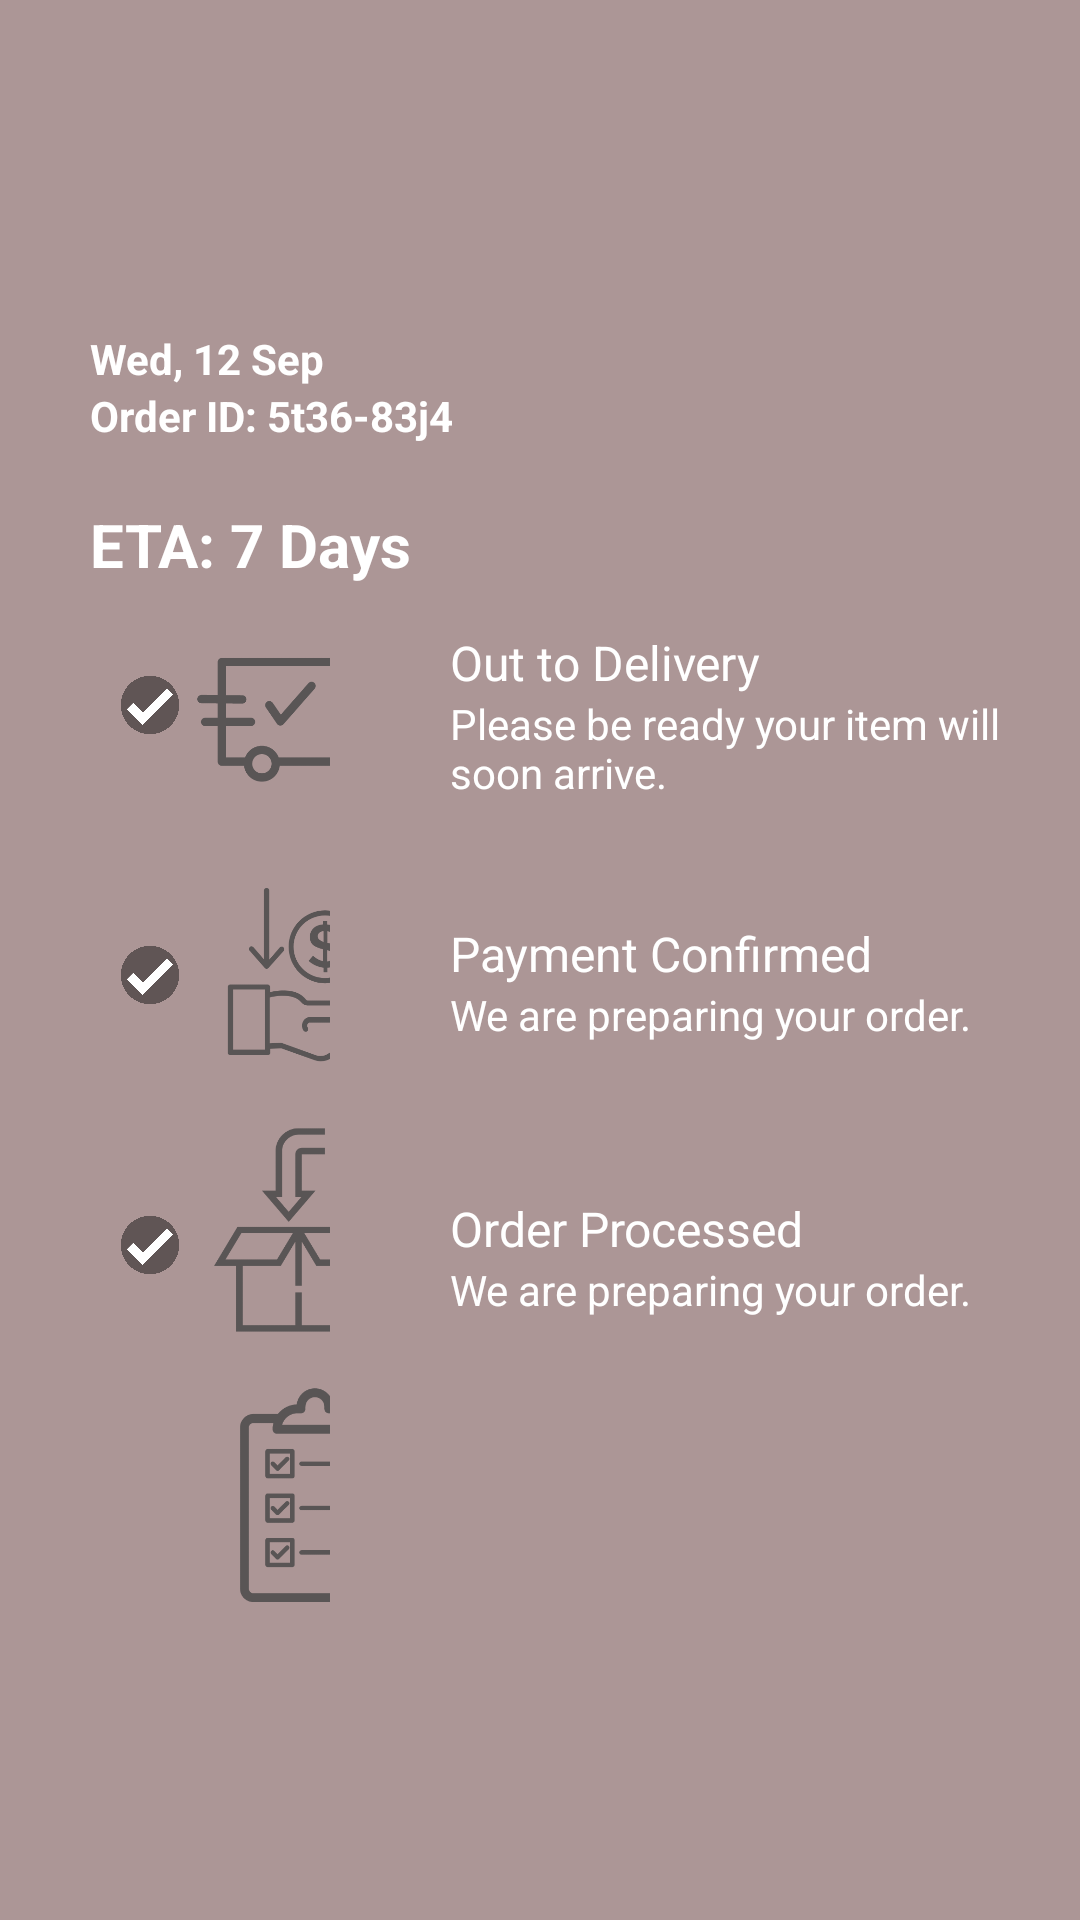

Screen size 1080px×1920px. Icon name, then its box in pixels as (x1, y1, x2, y2):
success: (121, 676, 179, 734), (121, 946, 179, 1004), (121, 1216, 179, 1274)
